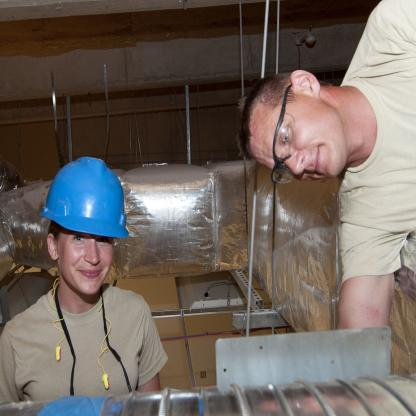Helmet: (43, 154, 133, 241)
